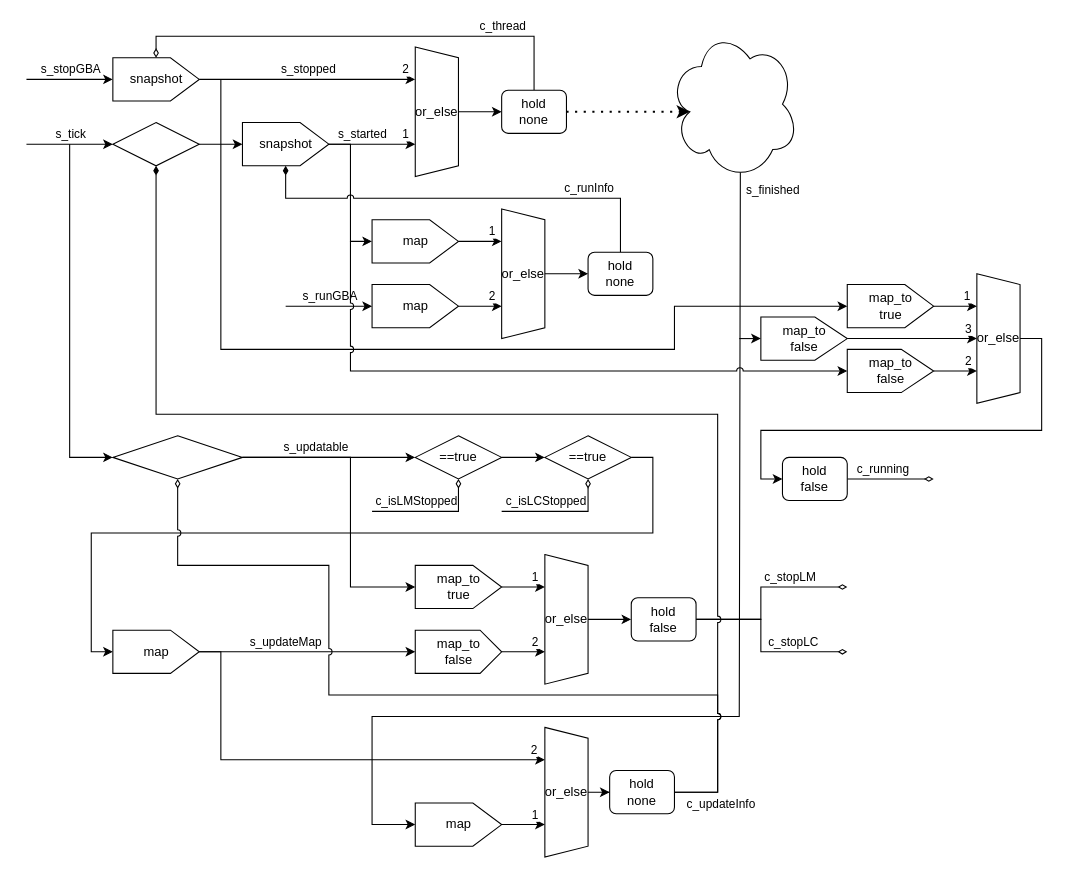
This 1069x876 diagram has some shape labels left out. The shapes that lost their labels are listed below. From the top down, each one's centre as x and y in pixels, then its label:
[733,104]: runGBA
[155,144]: ==none
[177,457]: filter_optional
